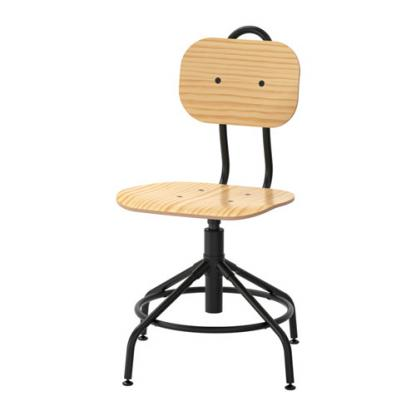Chair: (113, 21, 302, 394)
